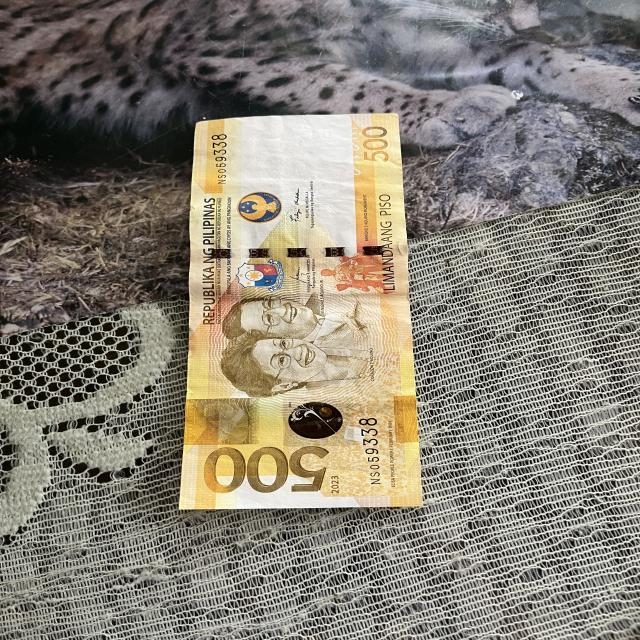concealed_value: (184, 397, 260, 445)
optically_variable_device: (285, 399, 354, 444)
security_thread: (189, 246, 408, 259)
see_through_mark: (346, 126, 363, 177)
serial_number: (351, 412, 382, 492), (208, 131, 228, 187)
value: (200, 446, 330, 493)
value_watermark: (300, 129, 332, 141)
